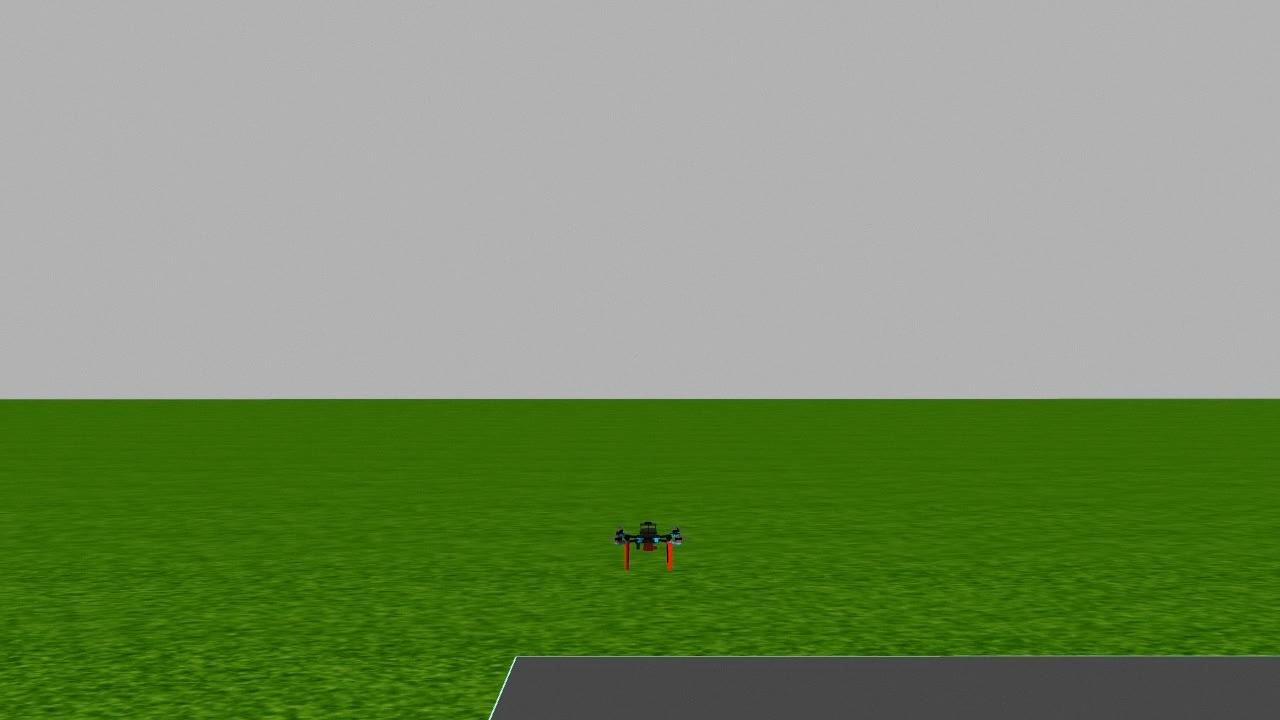UAV: (600, 504, 696, 586)
